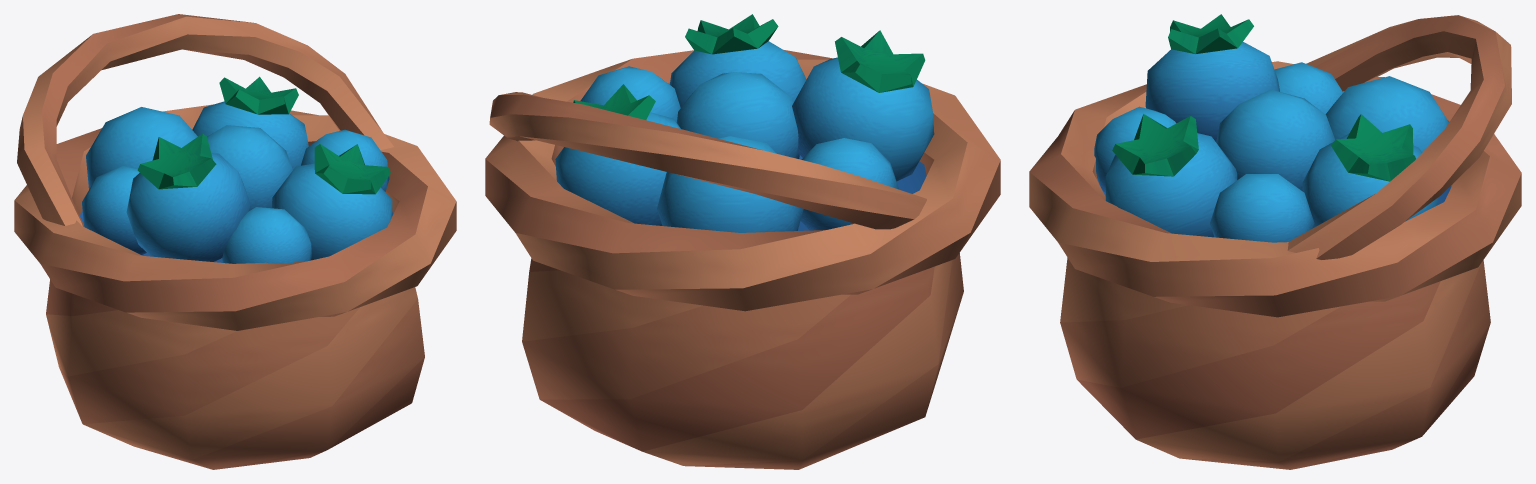
Rendered from Food_Basket_A_Berries.gltf.
3 renders of one model, left to right at view 1: azimuth 30°, elevation 25°; view 2: azimuth 150°, elevation 25°; view 3: azimuth 270°, elevation 25°, orthographic. The views are drawn at different scales.
Visible parts, largest first — view 1: Food_Basket_A_Berries; view 2: Food_Basket_A_Berries; view 3: Food_Basket_A_Berries.
Part boxes in pixels (x1,y1,x2,y2): Food_Basket_A_Berries: (14,14,456,469); Food_Basket_A_Berries: (485,14,1000,469); Food_Basket_A_Berries: (1029,14,1521,469).
Bounding box in the file's own units: 0.8506 × 0.6798 × 0.834.
1 material, 1 textured.
